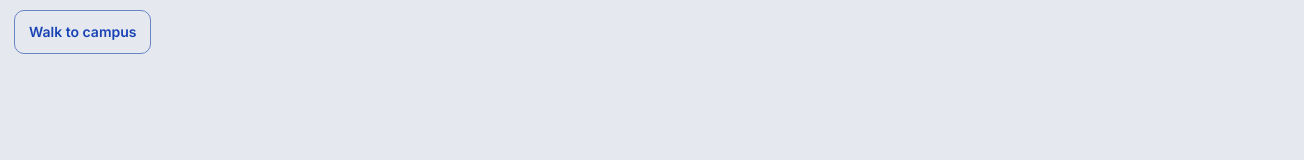
Test: walking estimates › loads only on request, labels estimates, clears and reuses cached routes
Click the button "Walk to campus". click: (83, 32)
box: 14,10 -> 151,54
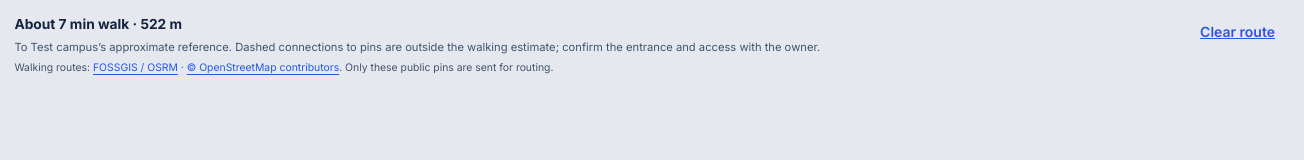
Expected: the text "About 7 min walk · 522 m" is shown, 14,16 -> 182,32
Expected: the text "approximate reference" is shown, 98,40 -> 820,54
Click the button "Clear route". click: (1238, 32)
box: 1186,10 -> 1290,54
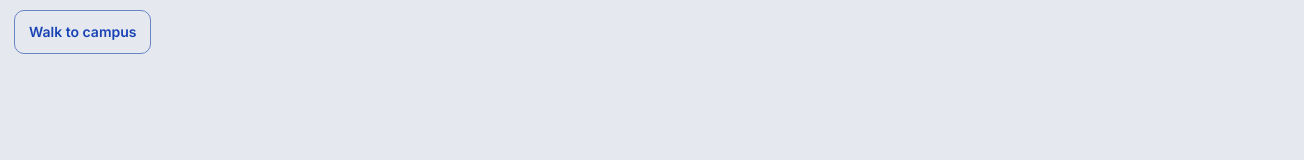
Expected: the text "About 7 min walk · 522 m" is gone
Click the button "Walk to campus". click: (83, 32)
box: 14,10 -> 151,54
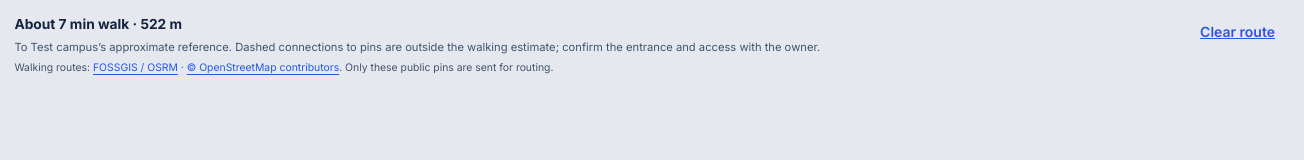
Expected: the text "About 7 min walk · 522 m" is shown, 14,16 -> 182,32
